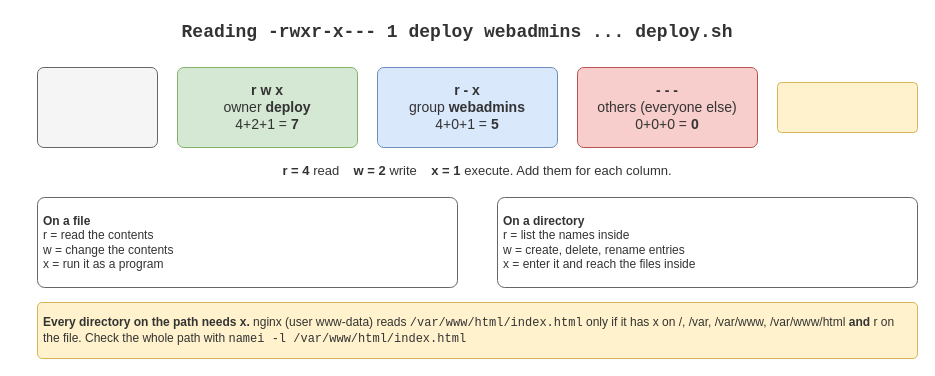
This 935x376 diagram has some shape labels left out. The centre of each missing label's shape, as x and y in pixels:
- type - file, d dir, l link: the point at 97,107
chmod 750 deploy.sh: the point at 847,107
